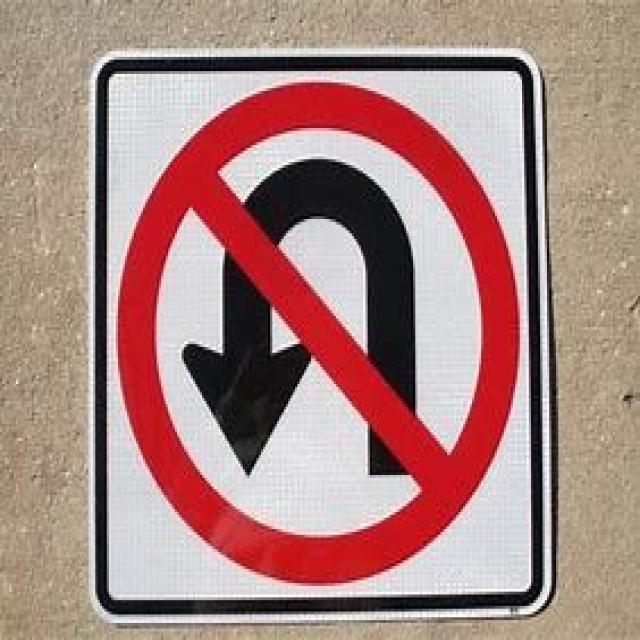U_TURN_PROHIBITED: (113, 83, 528, 583)
